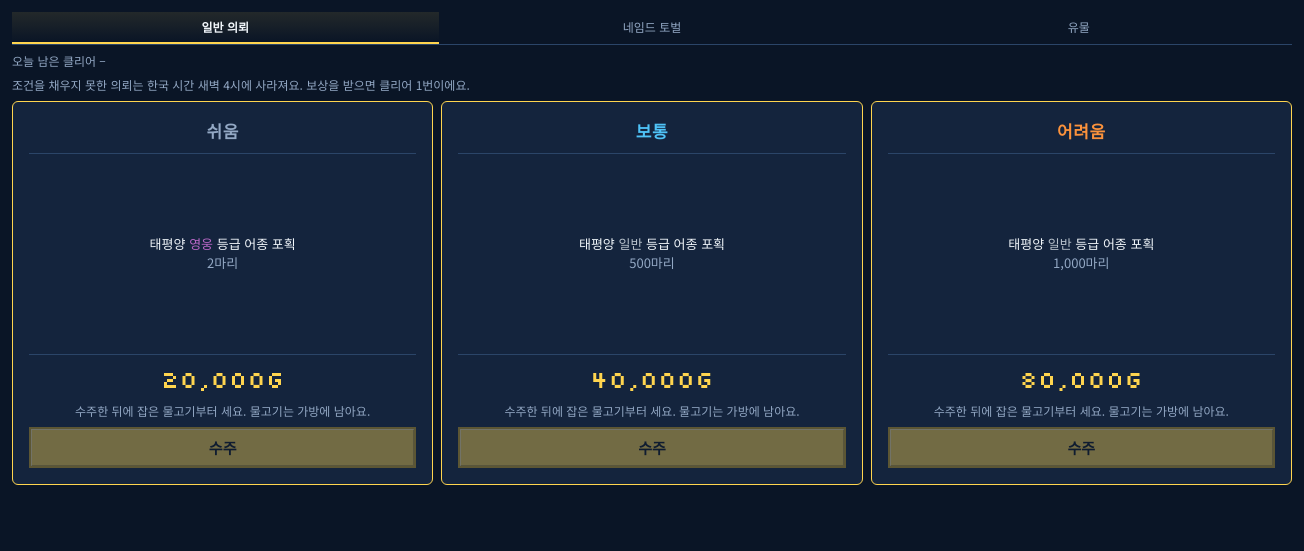
BountyPanel › 네임드 화면 — 이름은 초상화 아래 ???, 본문은 수배서 전용 문구다
What coordinates should you click on to do the following:
click the button "네임드 토벌"
I would click on:
 (652, 28)
Its box is 439,12 -> 865,44.
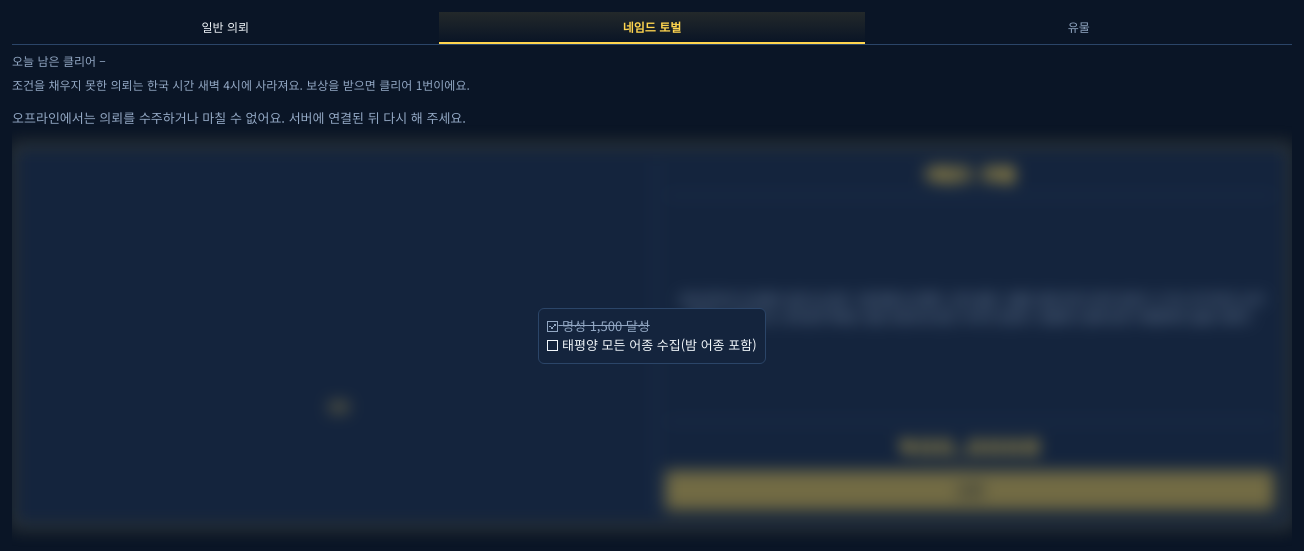
expect the text "걷어 올린 그물은" is shown: met, box 677,290 -> 1263,326
expect the text "400,000G" is shown: met, box 899,430 -> 1041,460
